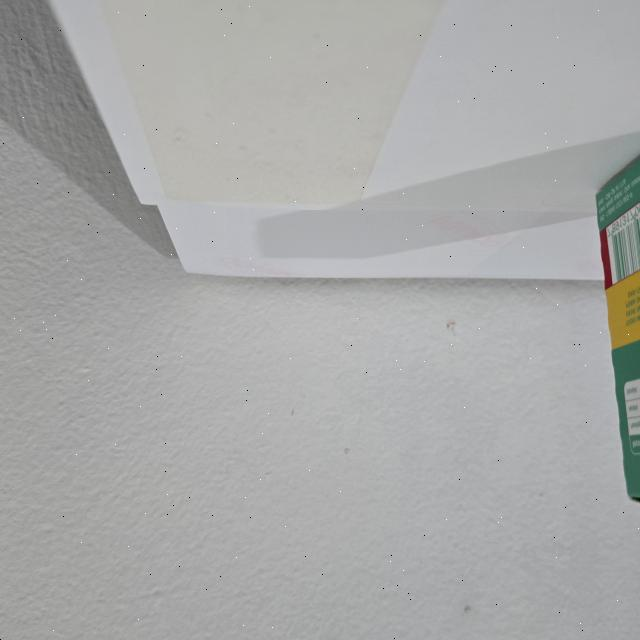tramadol: (591, 118, 640, 513)
